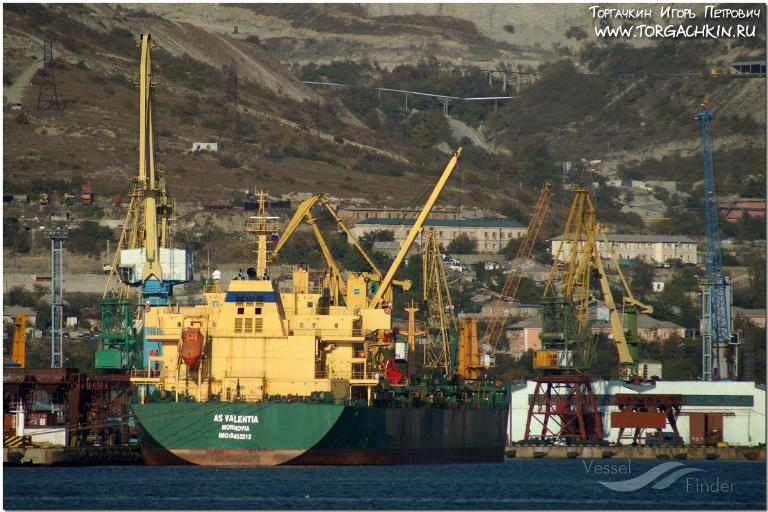OCR: (202, 408, 276, 446)
